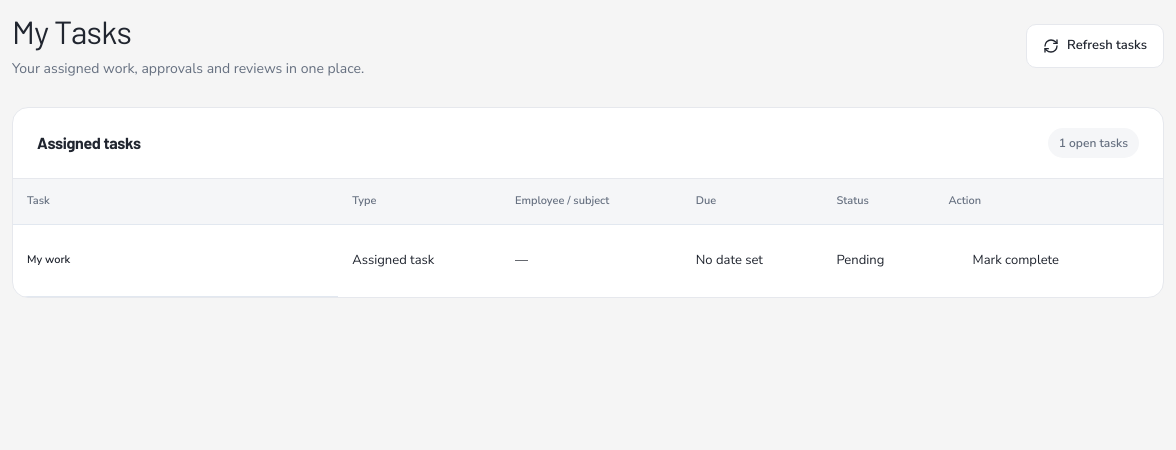
Test: completing an ordinary task uses its real reference then reloads the shared queue
Step 1. Click the button "Mark complete" → (1016,261), box [957,239,1075,283]
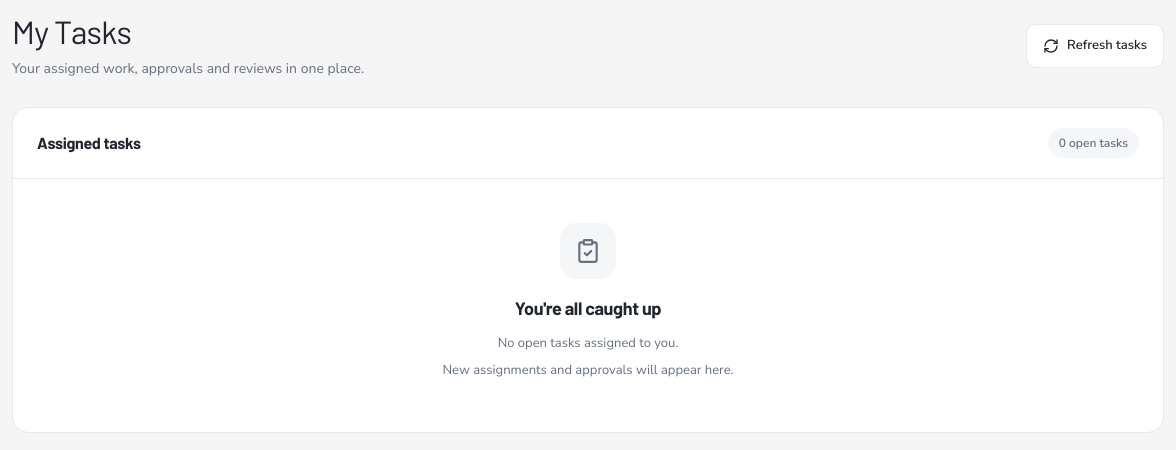
Now the text "No open tasks" is shown, box [498,334,678,352]
